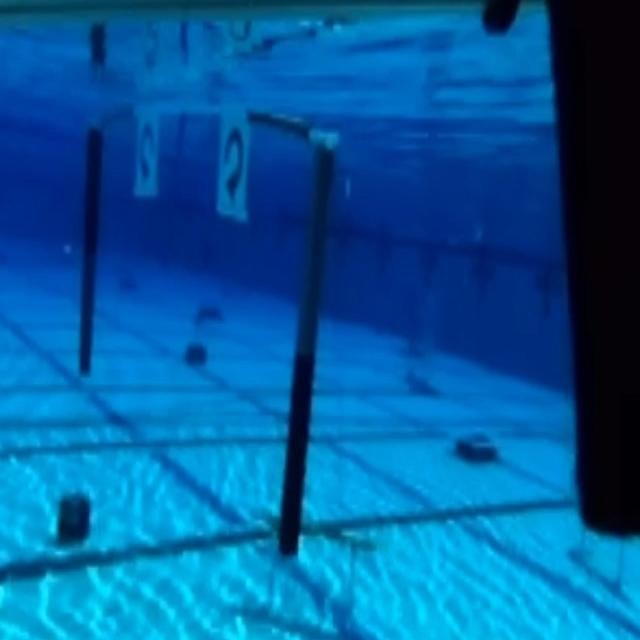Gate: (76, 93, 343, 575)
